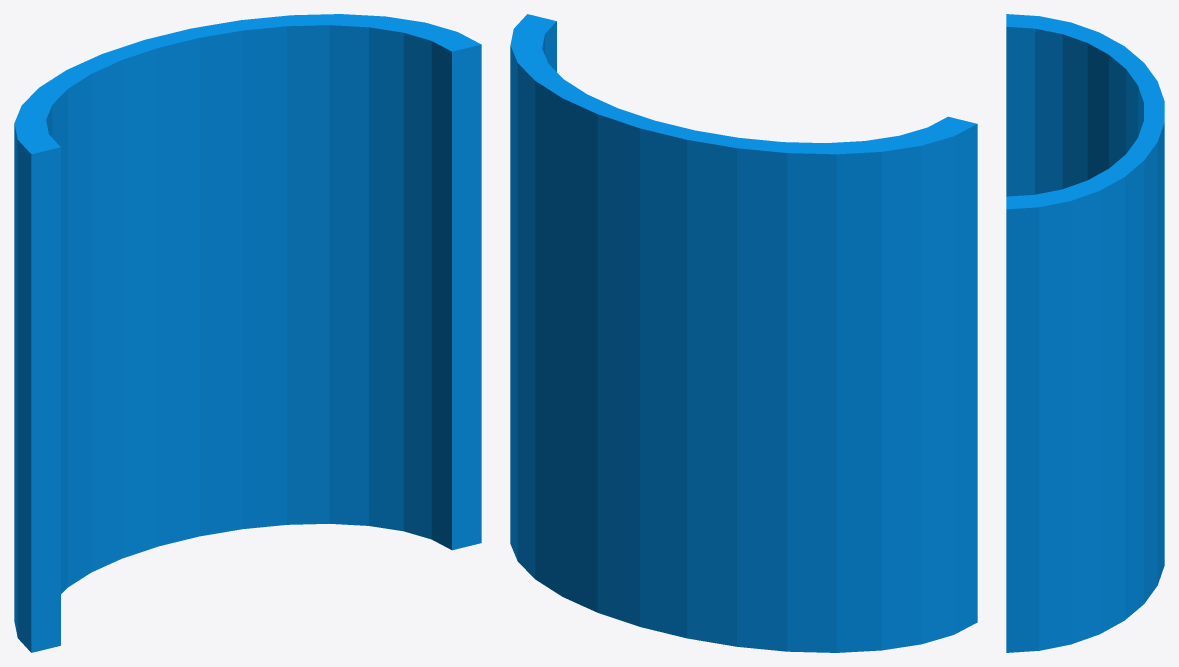
The model's file is schield.fbx.
3 renders of one model, left to right at view 1: azimuth 30°, elevation 25°; view 2: azimuth 150°, elevation 25°; view 3: azimuth 270°, elevation 25°, orthographic. The views are drawn at different scales.
Visible parts, largest first — view 1: tube; view 2: tube; view 3: tube.
Part boxes in pixels (bbox=[...]): tube: bbox=[14, 14, 481, 652]; tube: bbox=[510, 14, 977, 652]; tube: bbox=[1006, 14, 1164, 652].
Bounding box in the file's own units: 201 × 212 × 68.75.
1 material, 1 textured.
